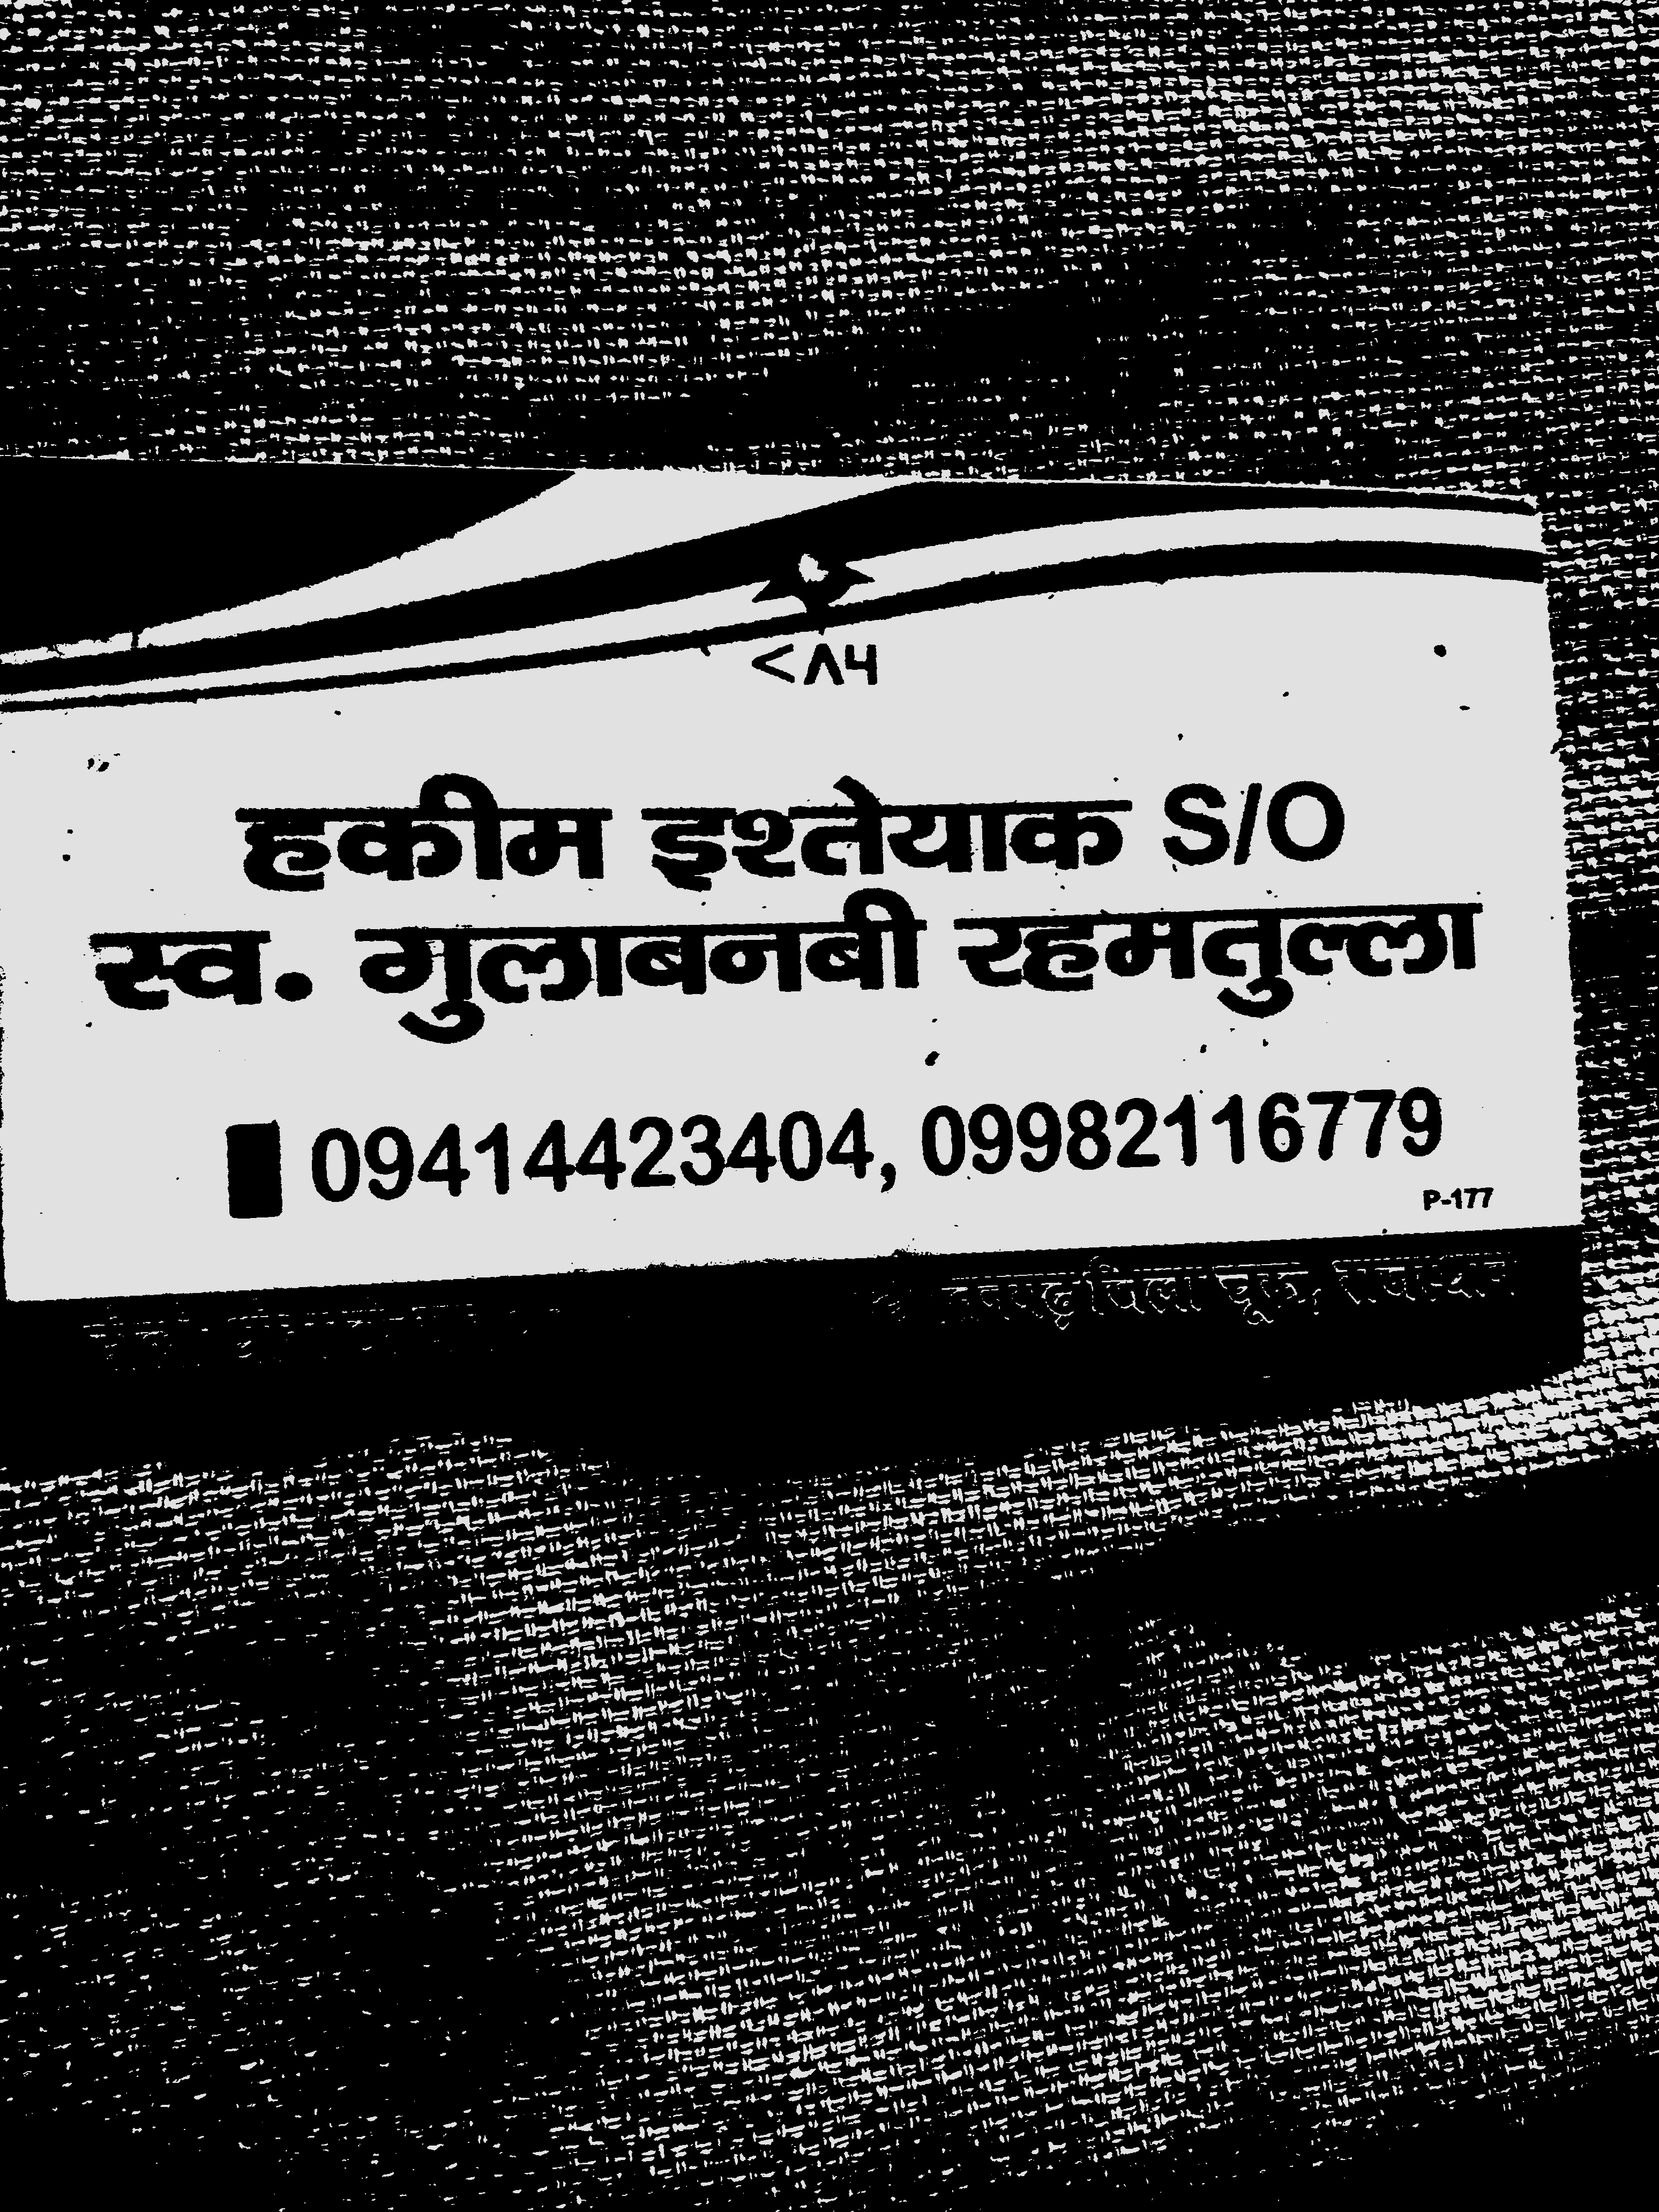text: (5, 458, 1588, 1444)
